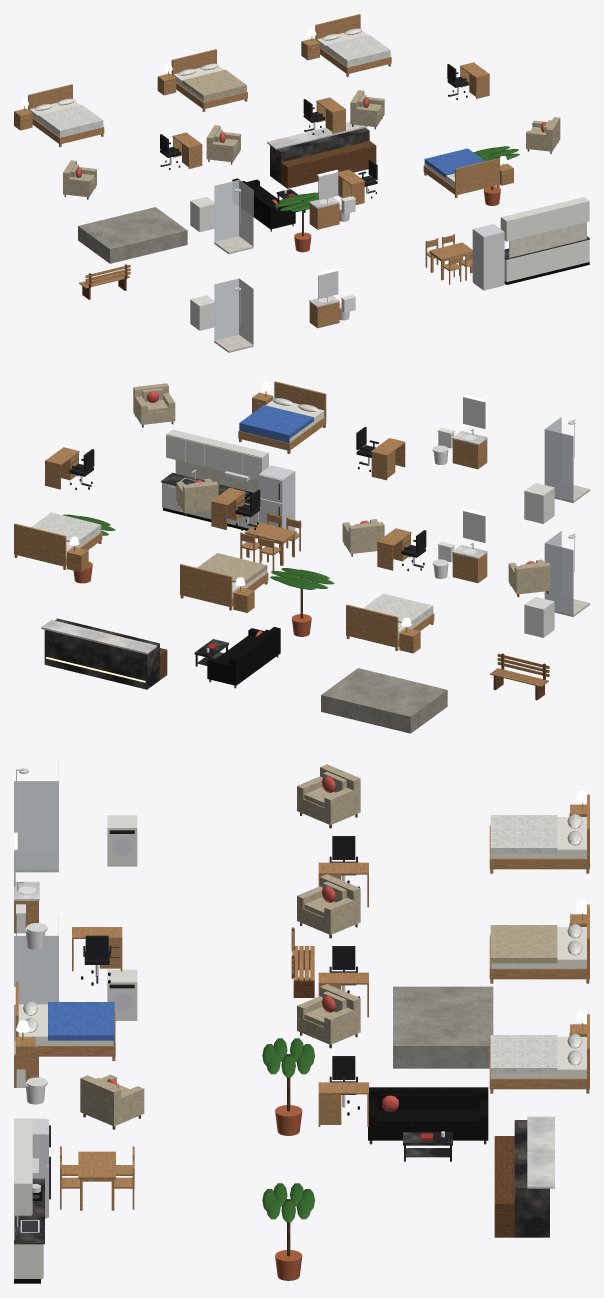
The model's file is i_jp_ryokan.gltf.
The picture shows the model from 3 angles, top to bottom: view 1: azimuth 30°, elevation 25°; view 2: azimuth 150°, elevation 25°; view 3: azimuth 270°, elevation 25°; orthographic projection. The views are drawn at different scales.
Visible parts, largest first — view 1: I_jp_ryokan; view 2: I_jp_ryokan; view 3: I_jp_ryokan.
Part boxes in pixels (x1,y1,x2,y2): I_jp_ryokan: (14, 14, 589, 352); I_jp_ryokan: (14, 381, 589, 733); I_jp_ryokan: (14, 762, 589, 1283).
Size of the model in its own units: 16 by 5.45 by 11.49.
Materials: 30 (11 with a texture image).
